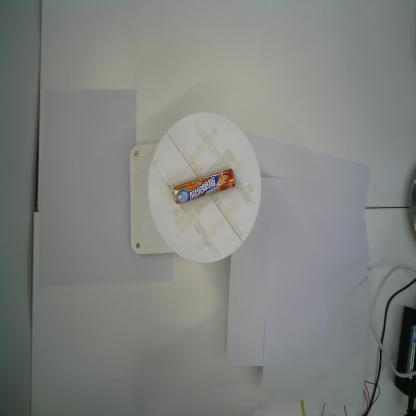Candy: (173, 167, 236, 205)
